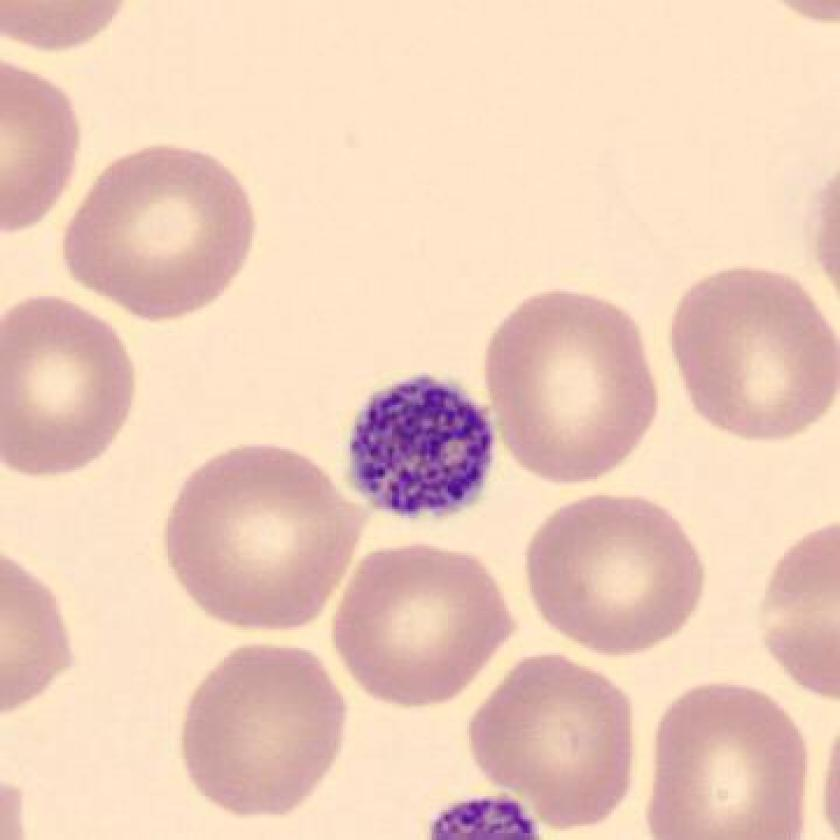platelets: (337, 367, 510, 533)
